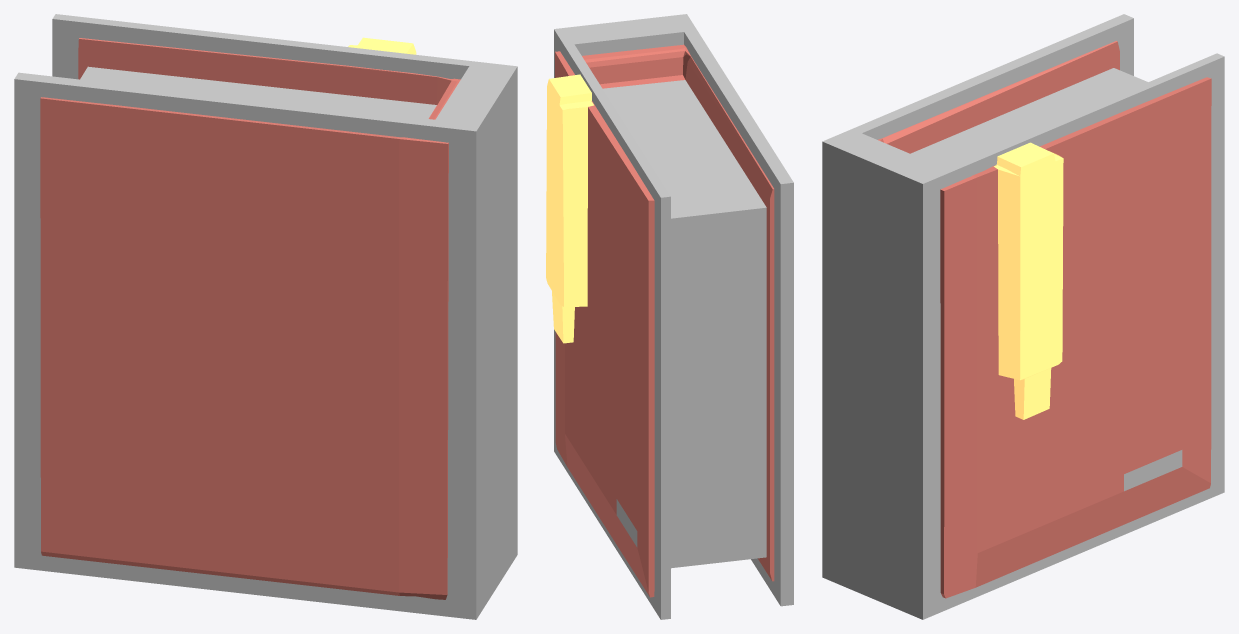
Rendered from Book.fbx.
3 views of the same model, side by side, from view 1: azimuth 30°, elevation 25°; view 2: azimuth 150°, elevation 25°; view 3: azimuth 270°, elevation 25° (orthographic). The views are drawn at different scales.
Visible parts, largest first — view 1: Book; view 2: Book; view 3: Book.
Boxes of the visible parts, <box> form: Book: <box>14,14,517,619</box>; Book: <box>546,14,793,619</box>; Book: <box>822,14,1224,619</box>.
Bounding box in the file's own units: 154 × 184 × 154.
